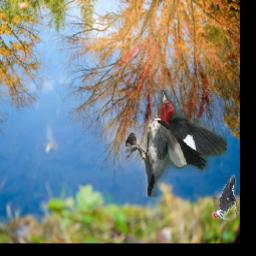Woodpecker: (126, 90, 228, 197), (213, 176, 240, 221)
